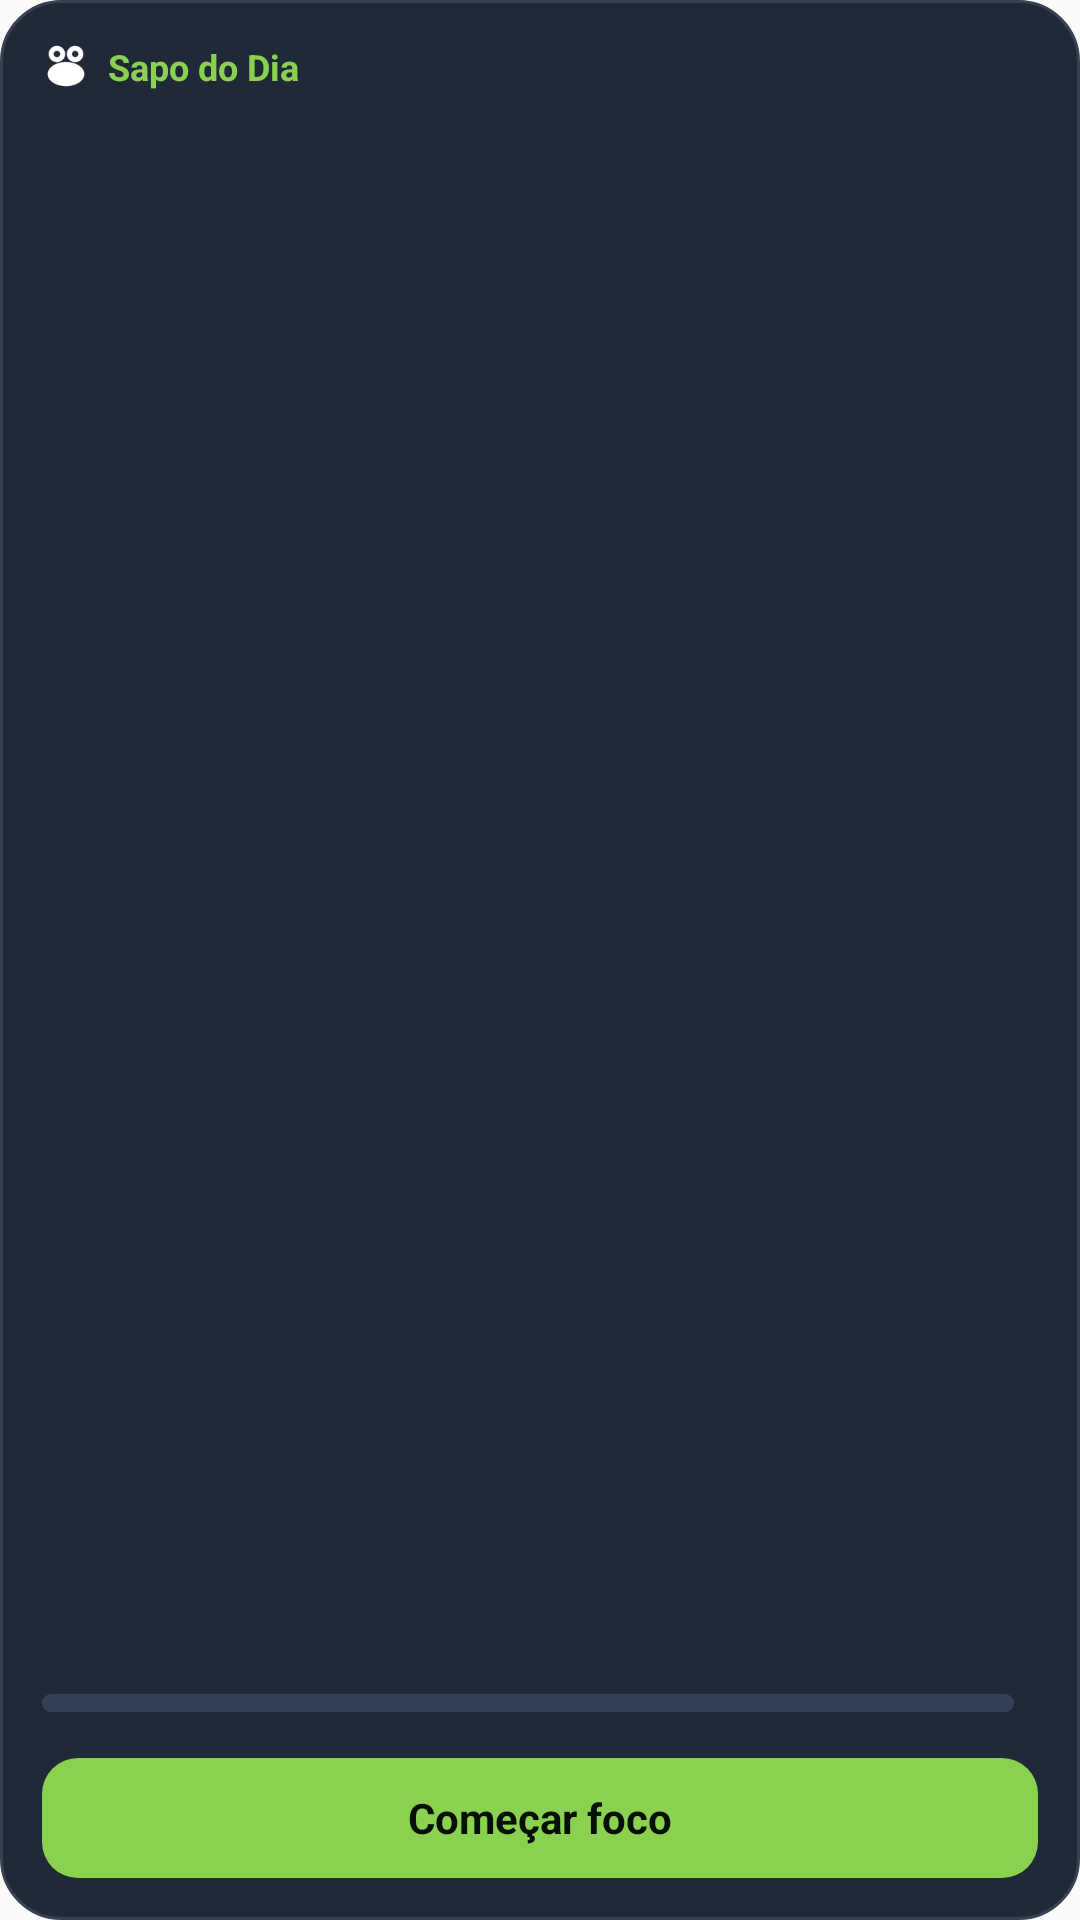

Icons on this 1080w x 1920h Android screen, each with its box as Rect(x1, y1, x2, y2):
frog: Rect(47, 45, 85, 87)
